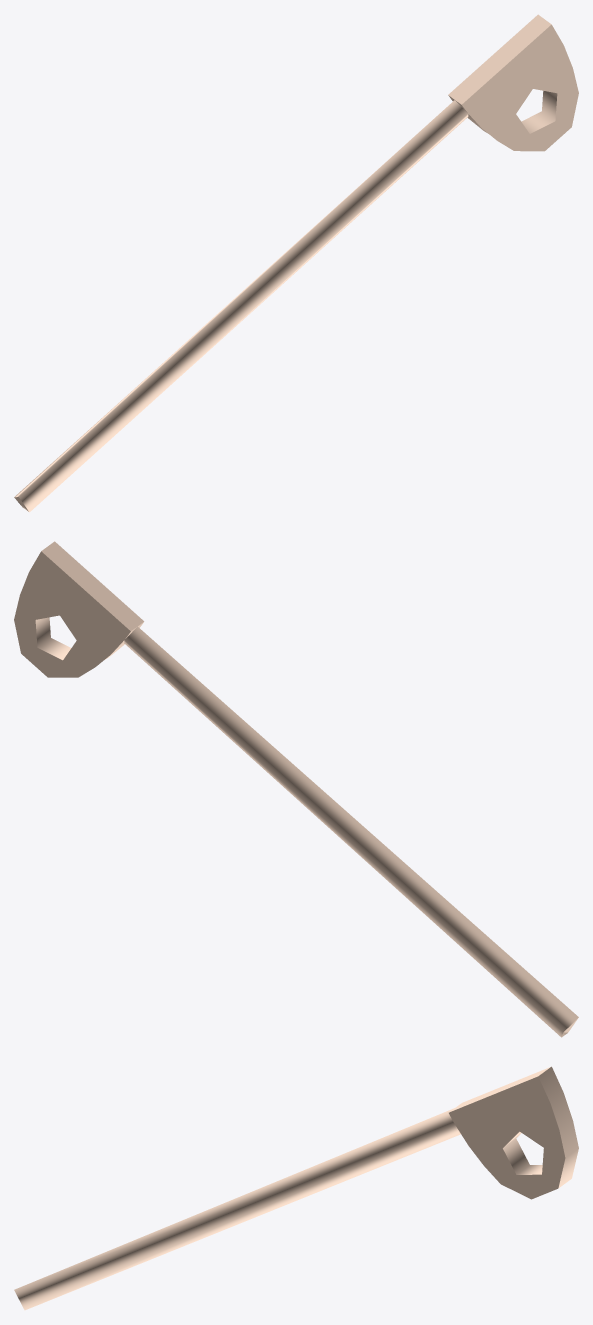
File: Tige sonnerie a la demande_Quarts.obj
3 views of the same model, one above another, from view 1: azimuth 30°, elevation 25°; view 2: azimuth 150°, elevation 25°; view 3: azimuth 330°, elevation 25° (orthographic).
Parts seen in each view (by area): view 1: Face_10, Face_3, Face_8, Face_9; view 2: Face_10, Face_4, Face_8, Face_9; view 3: Face_10, Face_3, Face_7, Face_9, Face_8, Face_6.
Part boxes in pixels (box(x1,y1,x2,y2)): Face_10: box(14, 100, 468, 512); Face_3: box(462, 24, 578, 151); Face_8: box(448, 14, 551, 104); Face_9: box(521, 91, 557, 133); Face_10: box(124, 626, 578, 1037); Face_4: box(14, 551, 130, 677); Face_8: box(41, 541, 143, 630); Face_9: box(35, 617, 71, 660); Face_10: box(14, 1108, 460, 1310); Face_3: box(449, 1076, 565, 1199); Face_7: box(538, 1066, 578, 1157); Face_9: box(503, 1131, 542, 1174); Face_8: box(449, 1067, 550, 1112); Face_6: box(558, 1148, 578, 1188).
Bounding box in the file's own units: 0.0473 × 0.0295 × 0.002.
